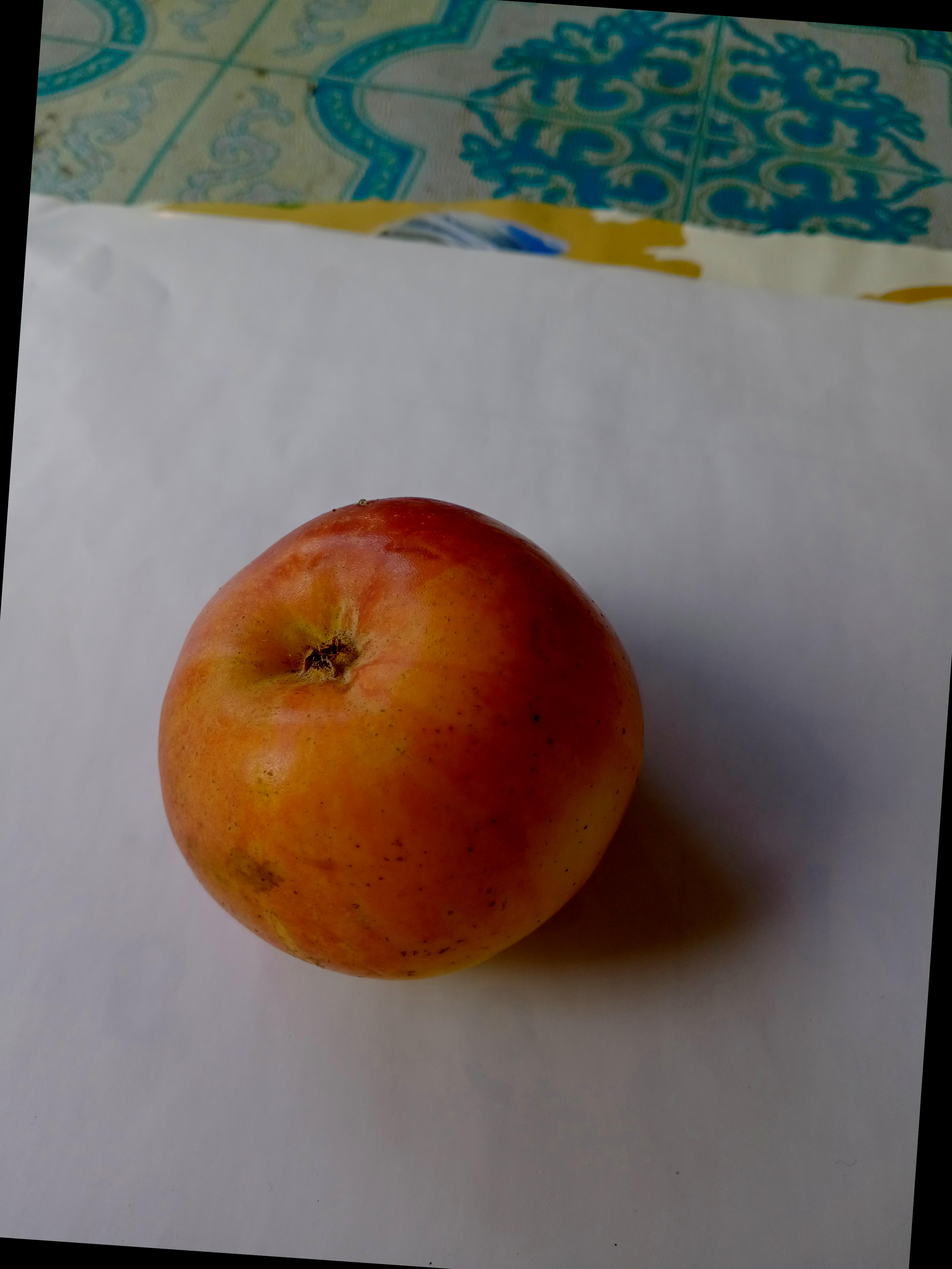Apple Ripe: (169, 409, 759, 988)
